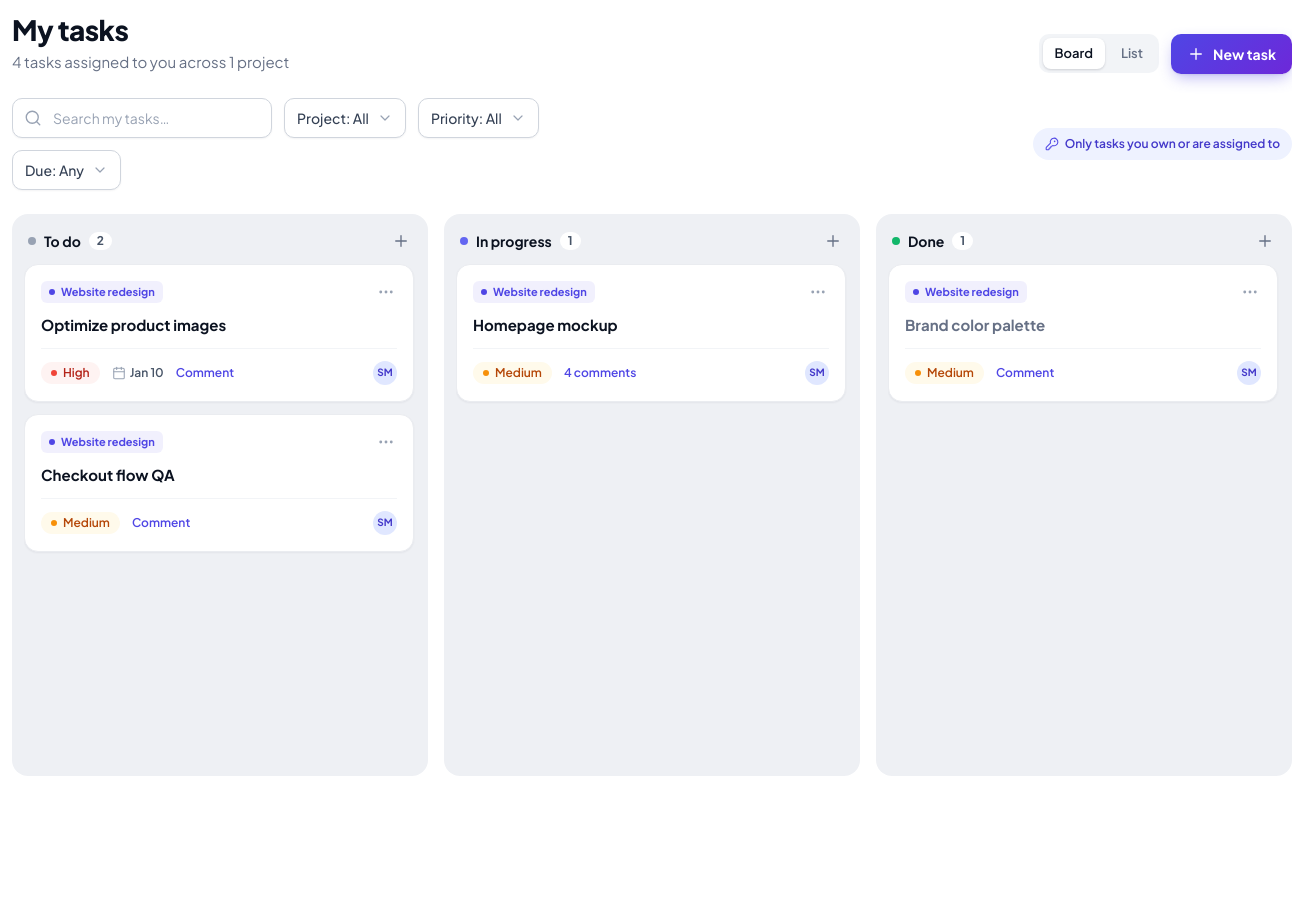
Test: My tasks › views › switches to the list, grouped by status
Expected: the button "Homepage mockup" is shown, [473,315,618,336]
Click the button "List" at (1132, 54), box [1109,38,1155,69]
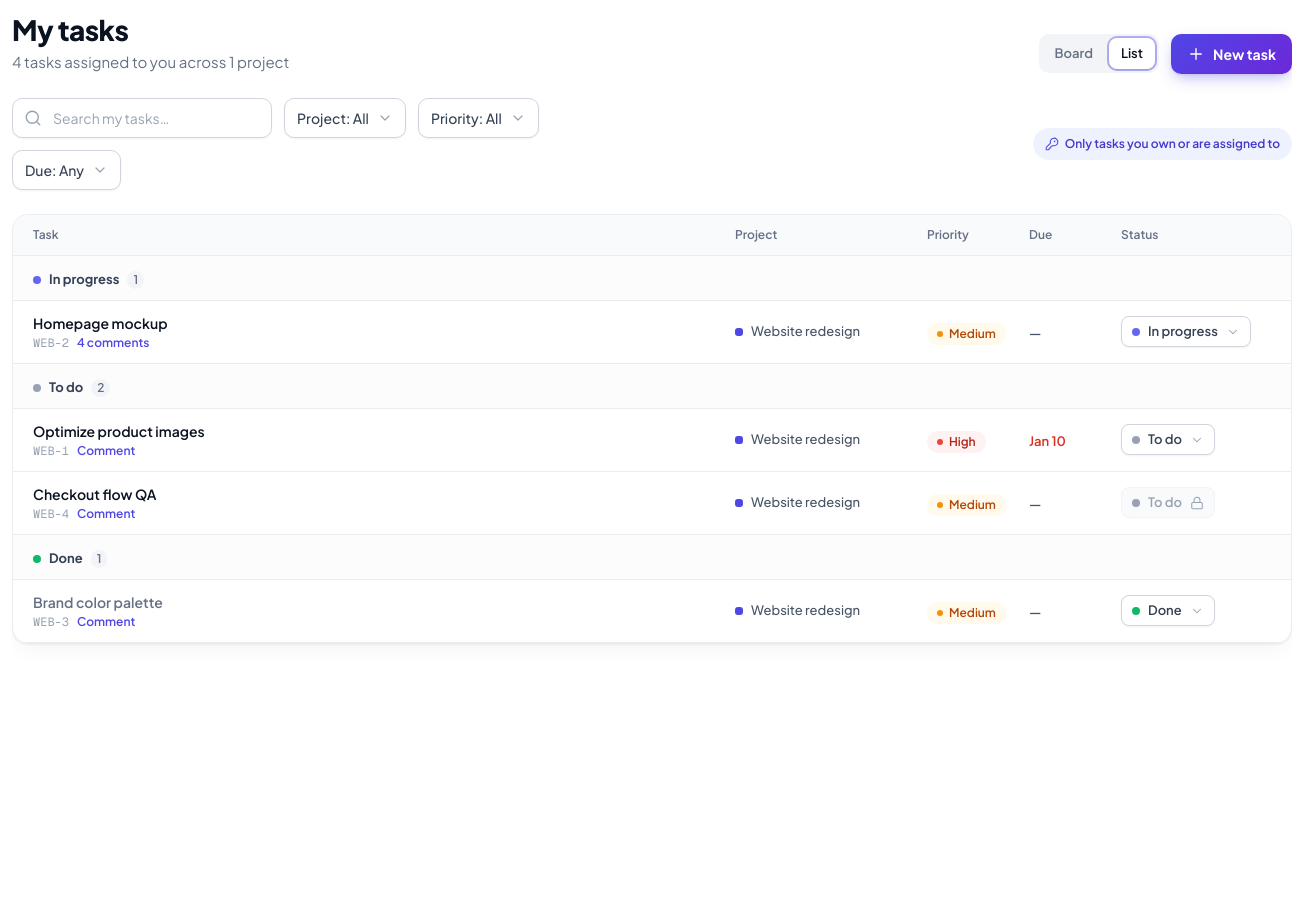
Expected: the text "4 comments" is shown, [77,334,149,350]
Now the element named "To do — locked" is shown, box [1121,487,1215,518]
Now the button with aria-label "Status of Optimize product images: To do" is shown, box [1121,424,1215,455]
